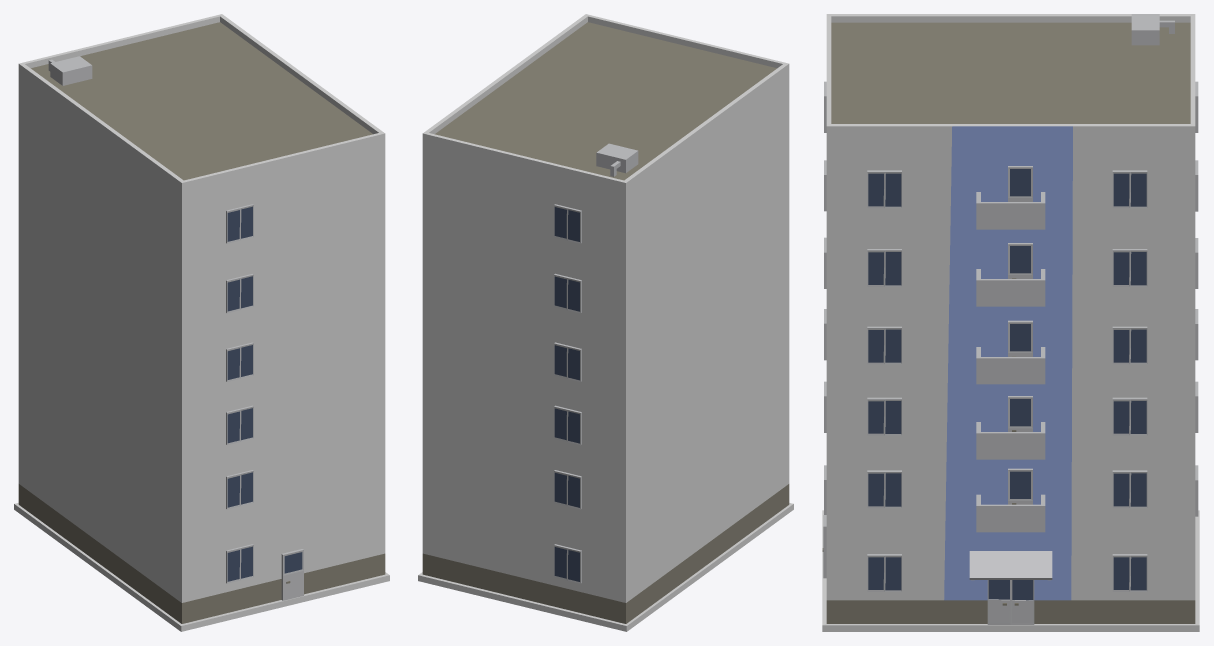
Rendered from apartment_complex_06.glb.
3 views of the same model, side by side, from view 1: azimuth 30°, elevation 25°; view 2: azimuth 150°, elevation 25°; view 3: azimuth 270°, elevation 25° (orthographic). The views are drawn at different scales.
Parts seen in each view (by area): view 1: Cube; view 2: Cube; view 3: Cube.
Boxes of the visible parts, x1=… form: Cube: x1=14, y1=14, x2=389, y2=631; Cube: x1=418, y1=14, x2=793, y2=631; Cube: x1=822, y1=14, x2=1199, y2=631.
Size of the model in its own units: 1.77 by 3.28 by 2.19.
